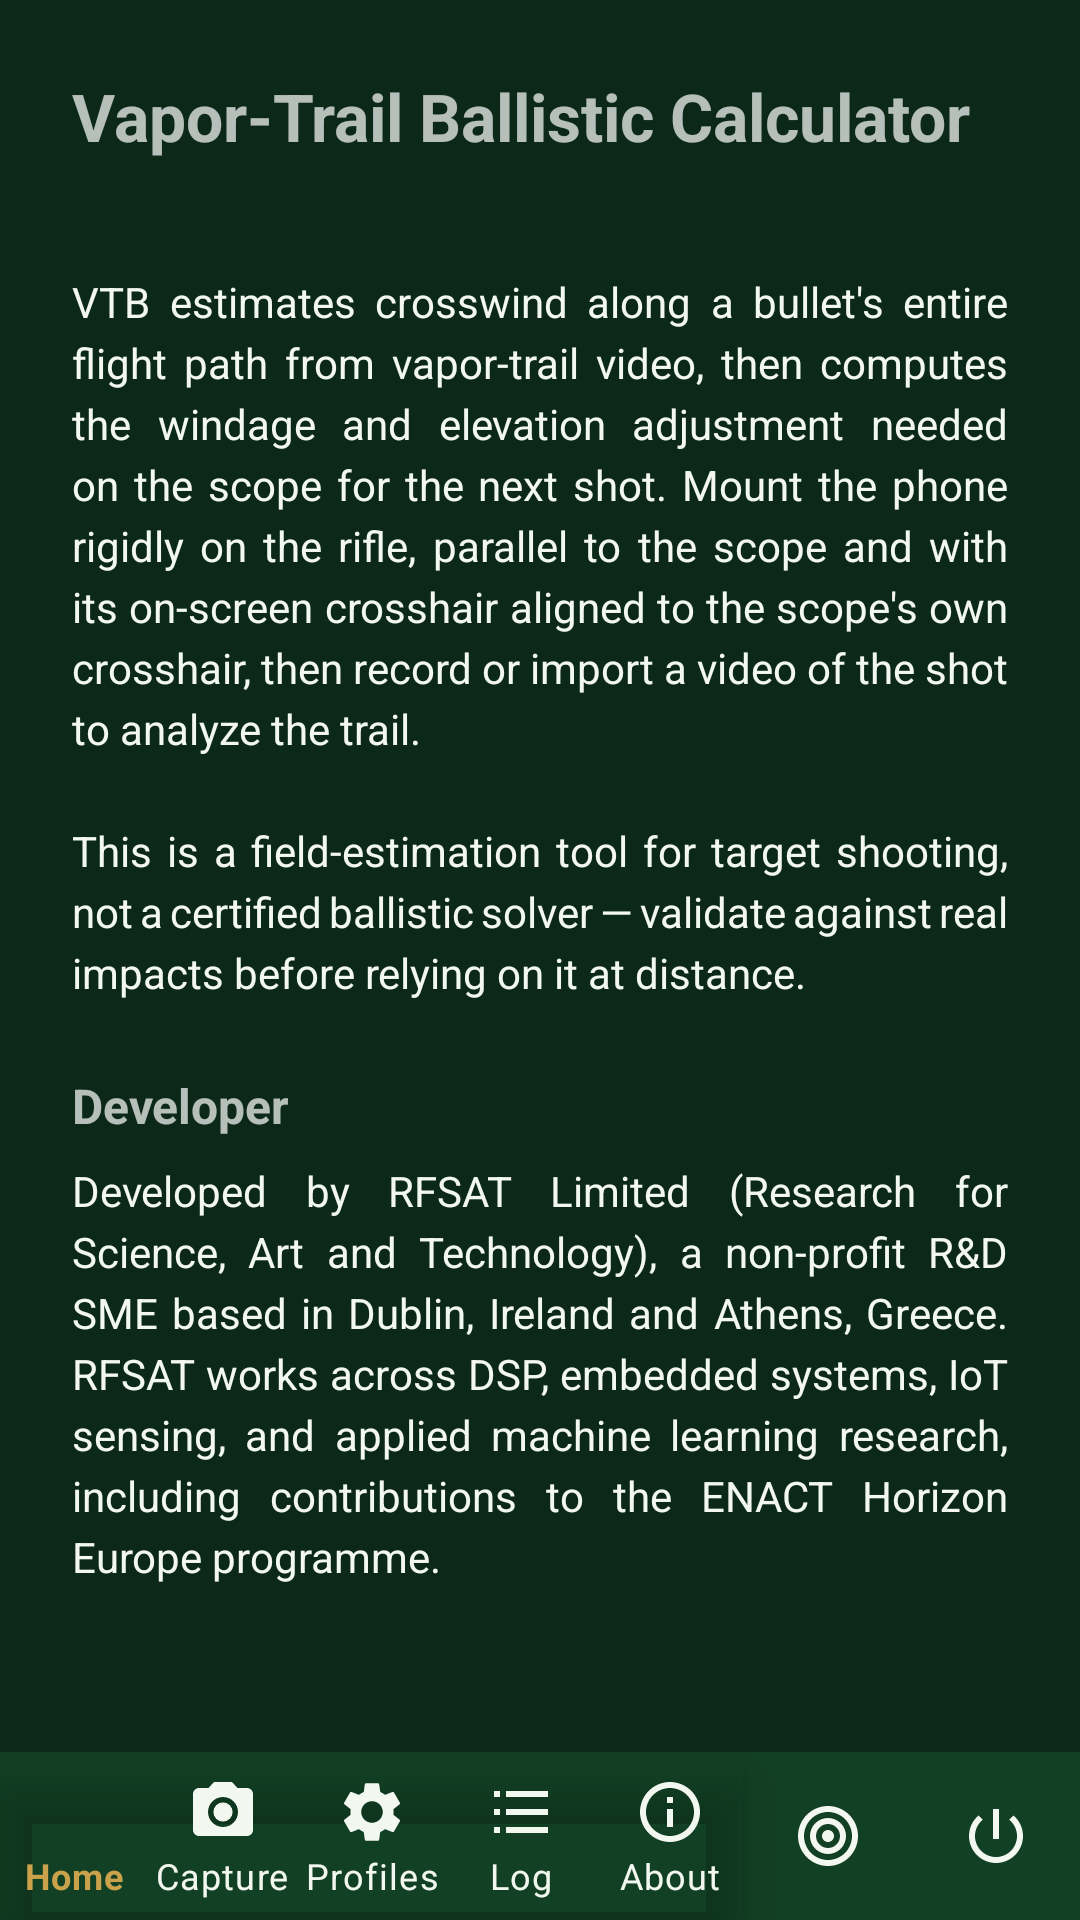

Point at icon controls on the screen. Image size 1080w x 1920h, points as [x,y].
exit: [996,1836]
